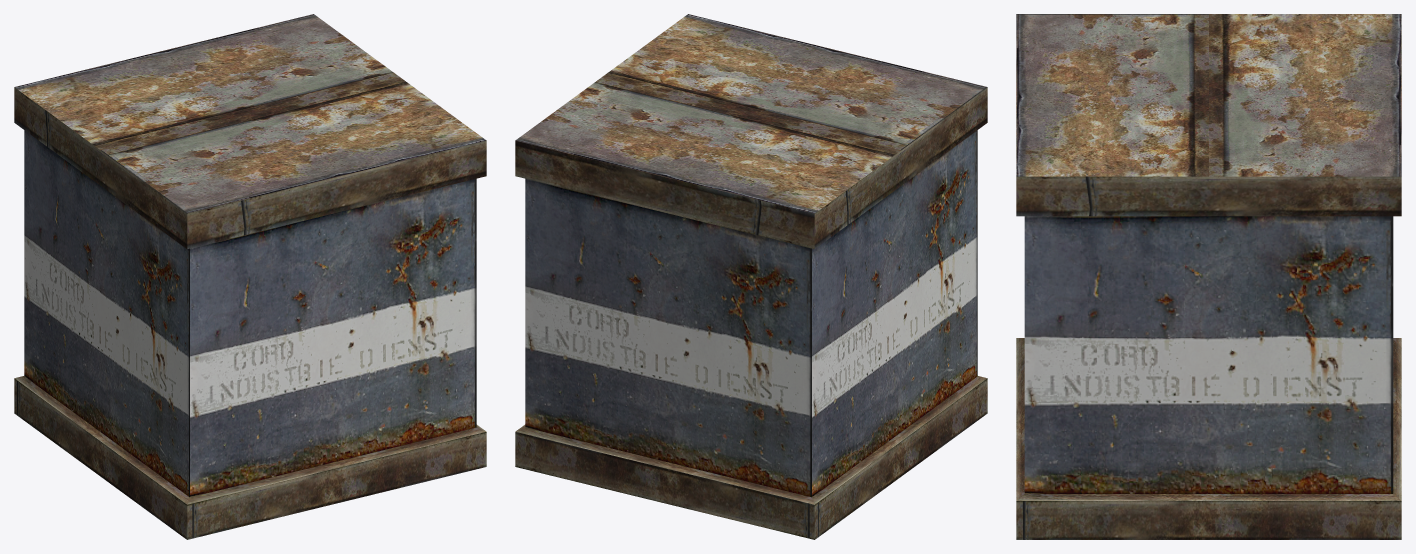
File: Model_Container_01.fbx
The picture shows the model from 3 angles, left to right: view 1: azimuth 30°, elevation 25°; view 2: azimuth 150°, elevation 25°; view 3: azimuth 270°, elevation 25°; orthographic projection. The views are drawn at different scales.
Parts seen in each view (by area): view 1: Container_01; view 2: Container_01; view 3: Container_01.
Part boxes in pixels (<box>): Container_01: <box>14,14,486,539</box>; Container_01: <box>515,14,987,539</box>; Container_01: <box>1016,14,1401,539</box>.
Bounding box in the file's own units: 96.09 × 100 × 96.09.
